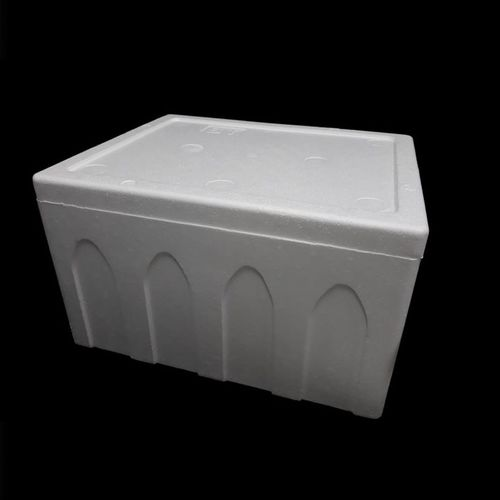Boxes: (34, 116, 428, 418)
